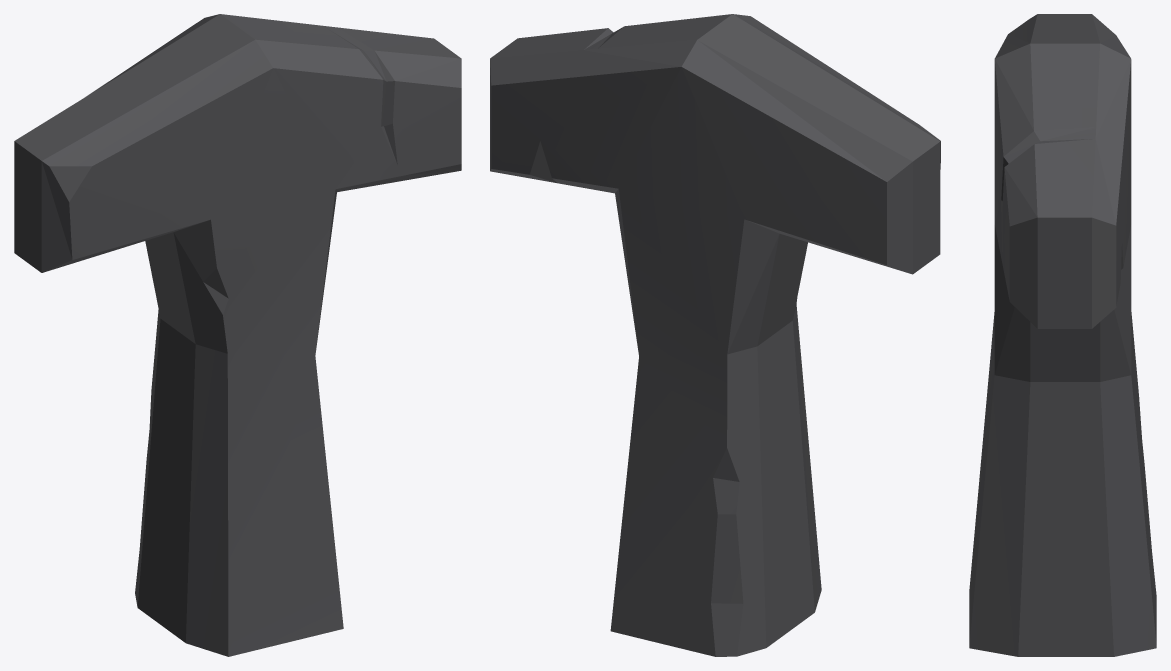
File: Totem.glb
3 renders of one model, left to right at view 1: azimuth 30°, elevation 25°; view 2: azimuth 150°, elevation 25°; view 3: azimuth 270°, elevation 25°, orthographic.
Parts seen in each view (by area): view 1: SM_Prop_Rock_Totem_01; view 2: SM_Prop_Rock_Totem_01; view 3: SM_Prop_Rock_Totem_01.
Boxes of the visible parts, x1,y1,x2,y2 form: SM_Prop_Rock_Totem_01: (14, 14, 461, 656); SM_Prop_Rock_Totem_01: (490, 14, 940, 656); SM_Prop_Rock_Totem_01: (969, 14, 1156, 656).
Size of the model in its own units: 2.57 by 3.39 by 1.
1 material, 1 textured.
